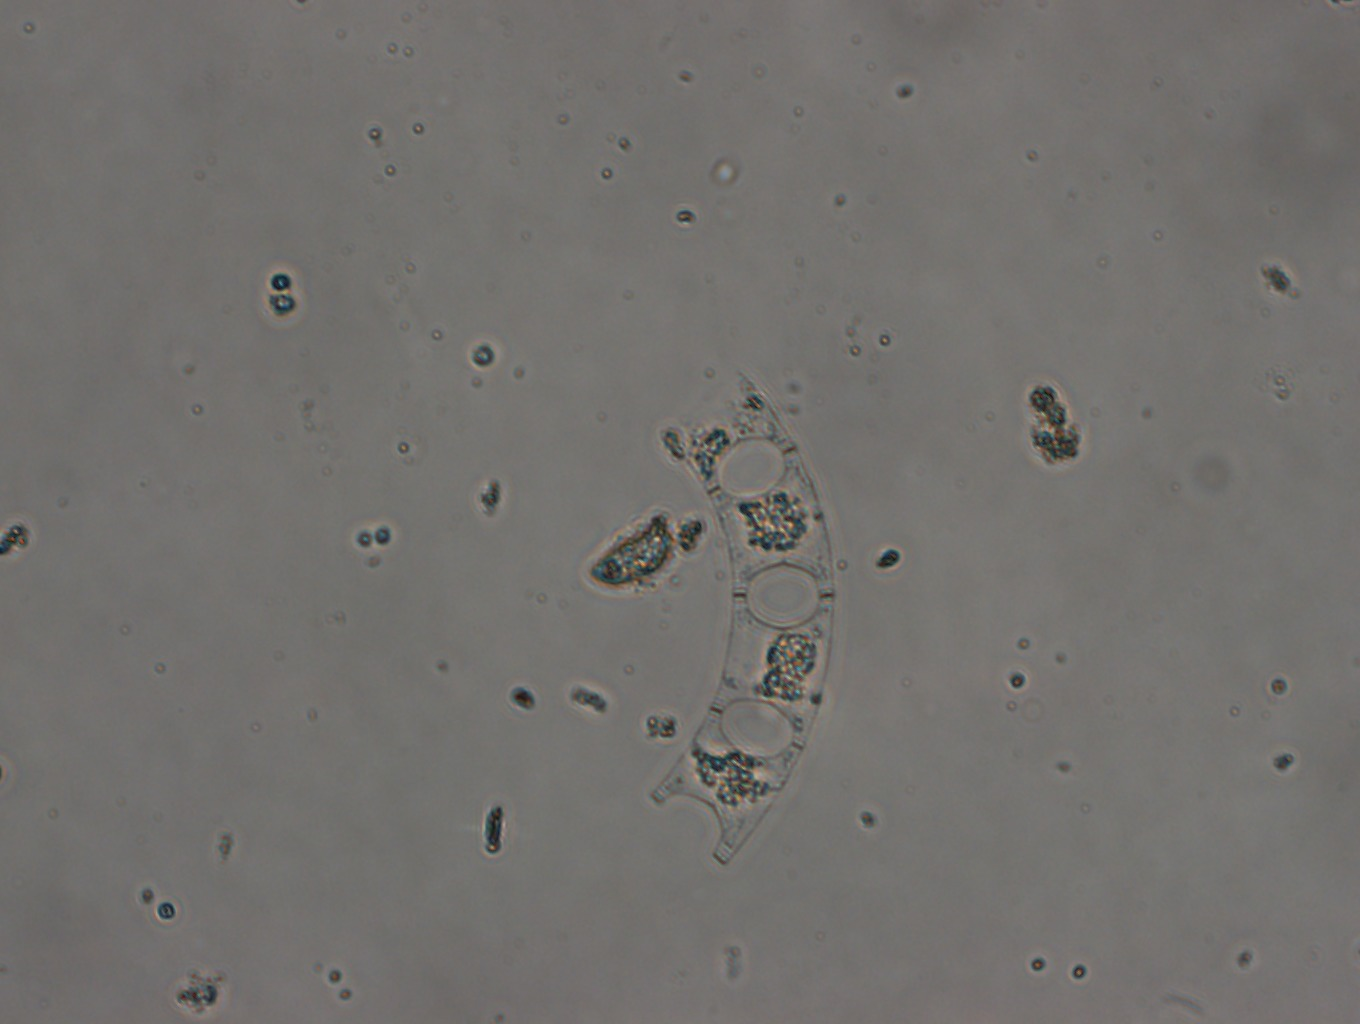eucampia: (638, 372, 844, 867)
